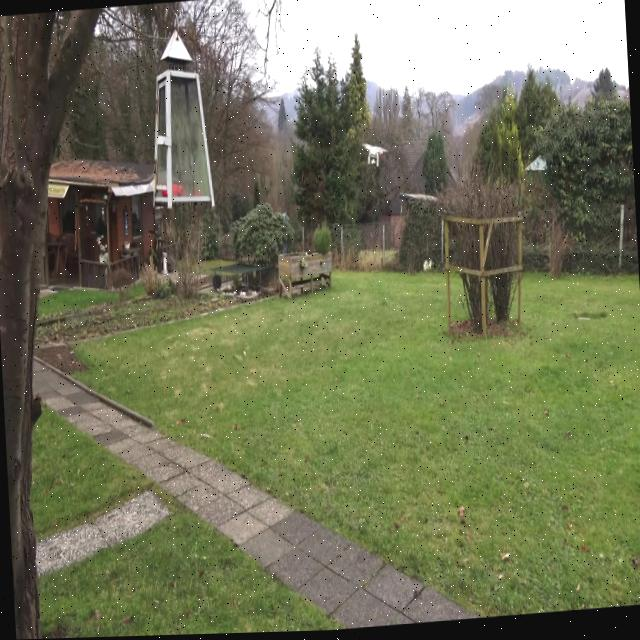drone: (359, 137, 388, 172)
